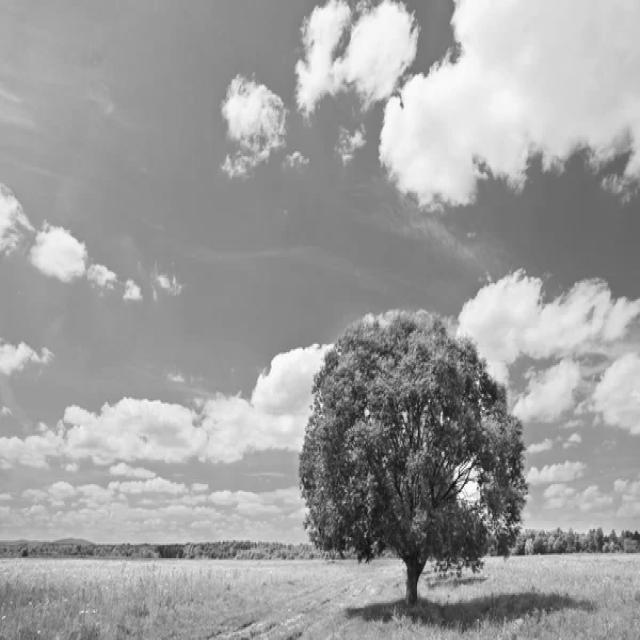Tree: (300, 314, 526, 606)
